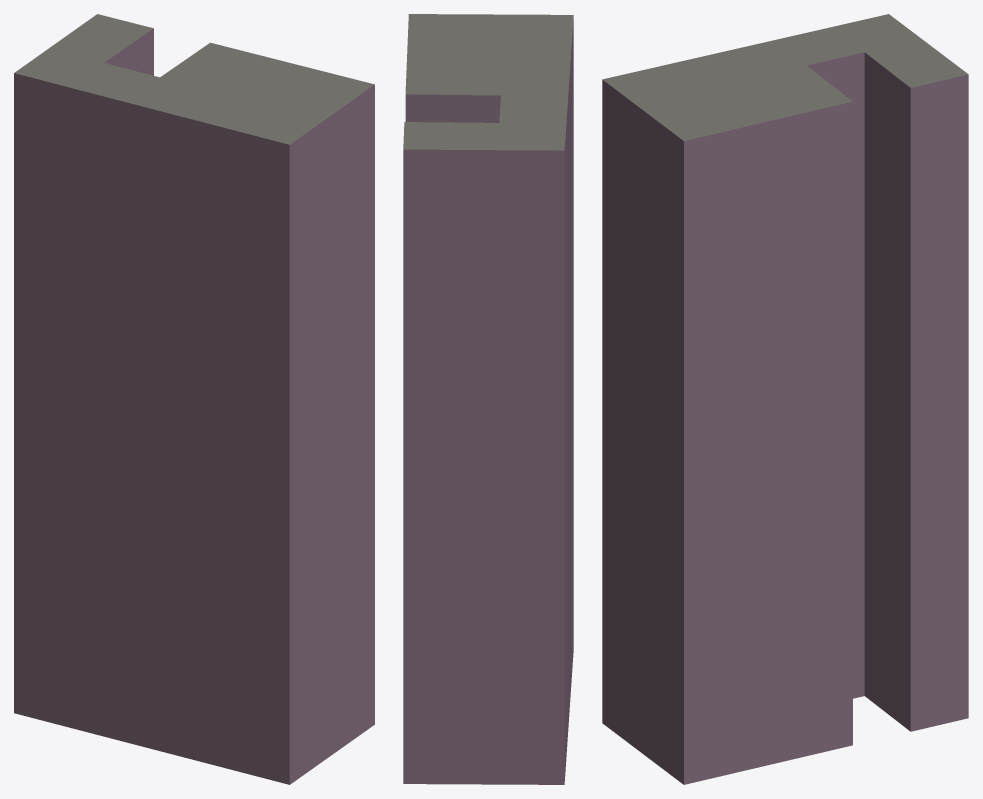
File: nyc-1015272-0.glb
3 renders of one model, left to right at view 1: azimuth 30°, elevation 25°; view 2: azimuth 150°, elevation 25°; view 3: azimuth 270°, elevation 25°, orthographic.
Visible parts, largest first — view 1: nyc-1015272-0; view 2: nyc-1015272-0; view 3: nyc-1015272-0.
Boxes of the visible parts, x1=… form: nyc-1015272-0: x1=14, y1=14, x2=374, y2=784; nyc-1015272-0: x1=403, y1=14, x2=573, y2=784; nyc-1015272-0: x1=602, y1=14, x2=968, y2=784.
Size of the model in its own units: 54.49 by 129 by 66.36.
